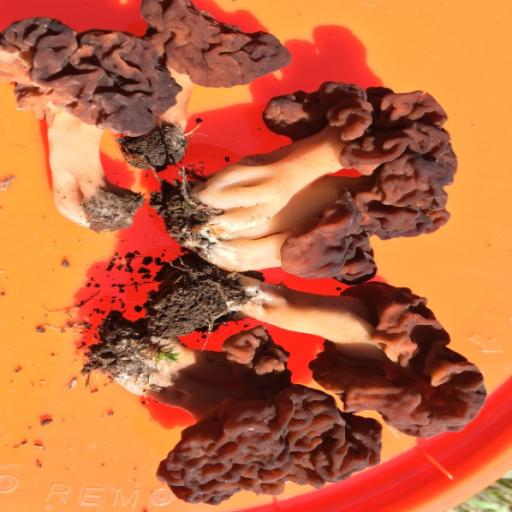False Morel: (84, 315, 392, 512), (194, 76, 476, 287), (199, 254, 500, 438), (4, 7, 185, 230)
